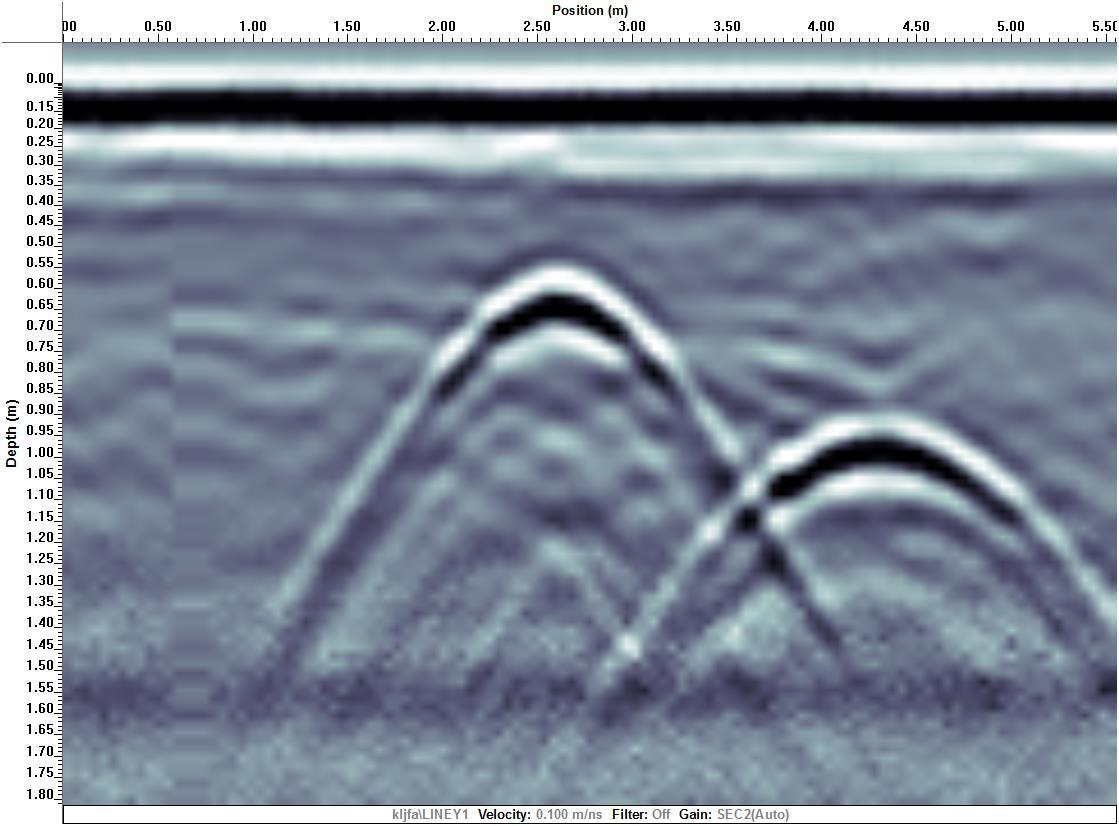hyperbola: (676, 389, 1079, 637), (389, 246, 730, 478)
